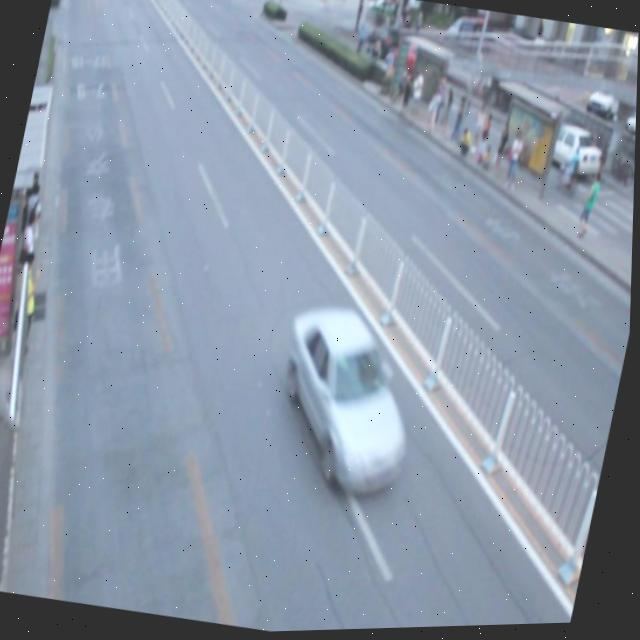car: (260, 297, 435, 508)
